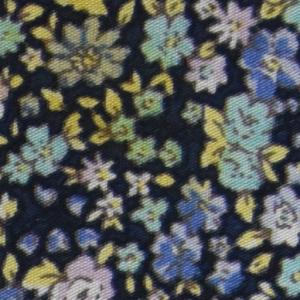Stain: (11, 7, 171, 169)
